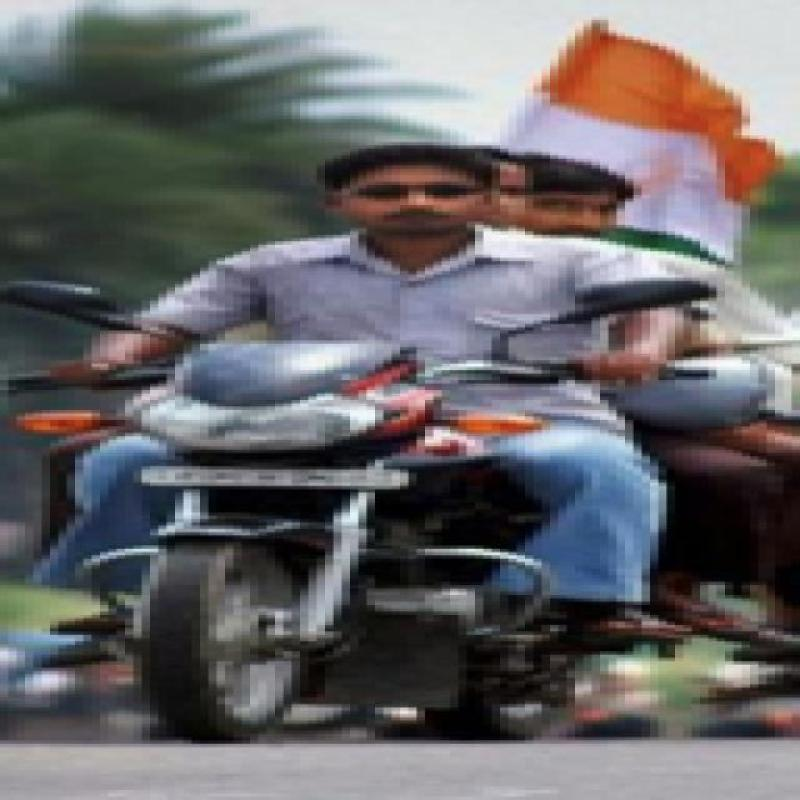nohelmet: (286, 131, 536, 242)
